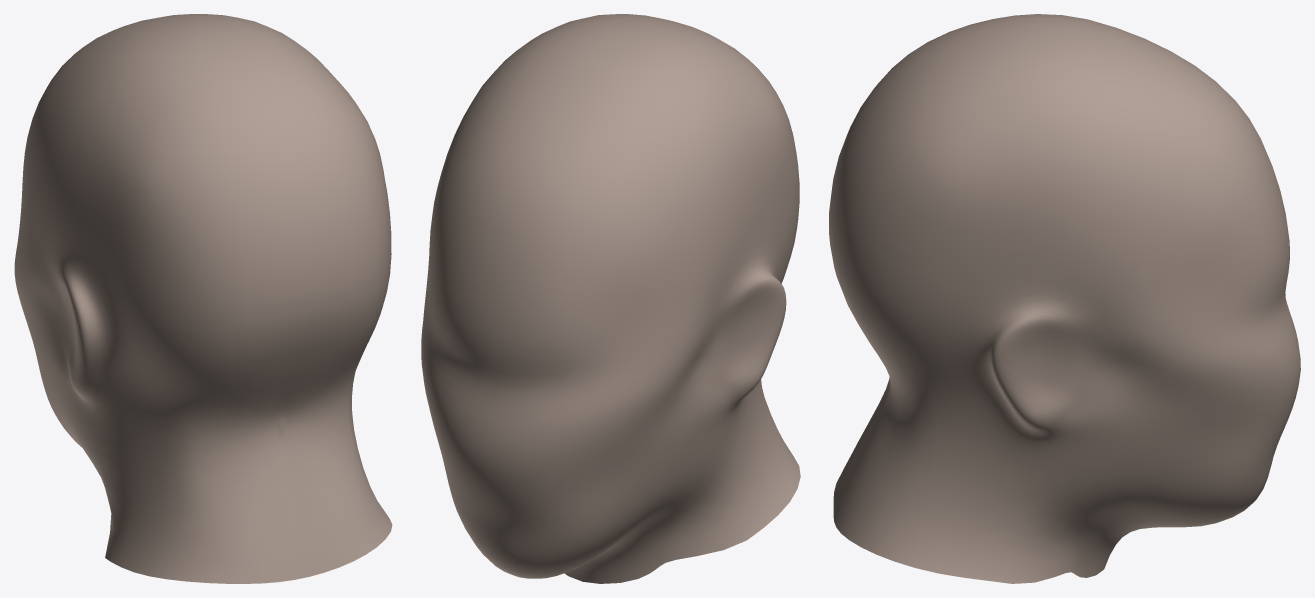
The model's file is human_head.fbx.
3 views of the same model, side by side, from view 1: azimuth 30°, elevation 25°; view 2: azimuth 150°, elevation 25°; view 3: azimuth 270°, elevation 25° (orthographic).
Visible parts, largest first — view 1: hmm:Mesh; view 2: hmm:Mesh; view 3: hmm:Mesh.
Part boxes in pixels (x1,y1,x2,y2): hmm:Mesh: [14, 14, 392, 583]; hmm:Mesh: [421, 14, 800, 583]; hmm:Mesh: [829, 14, 1300, 583].
Size of the model in its own units: 0.5292 by 0.8822 by 0.7125.
